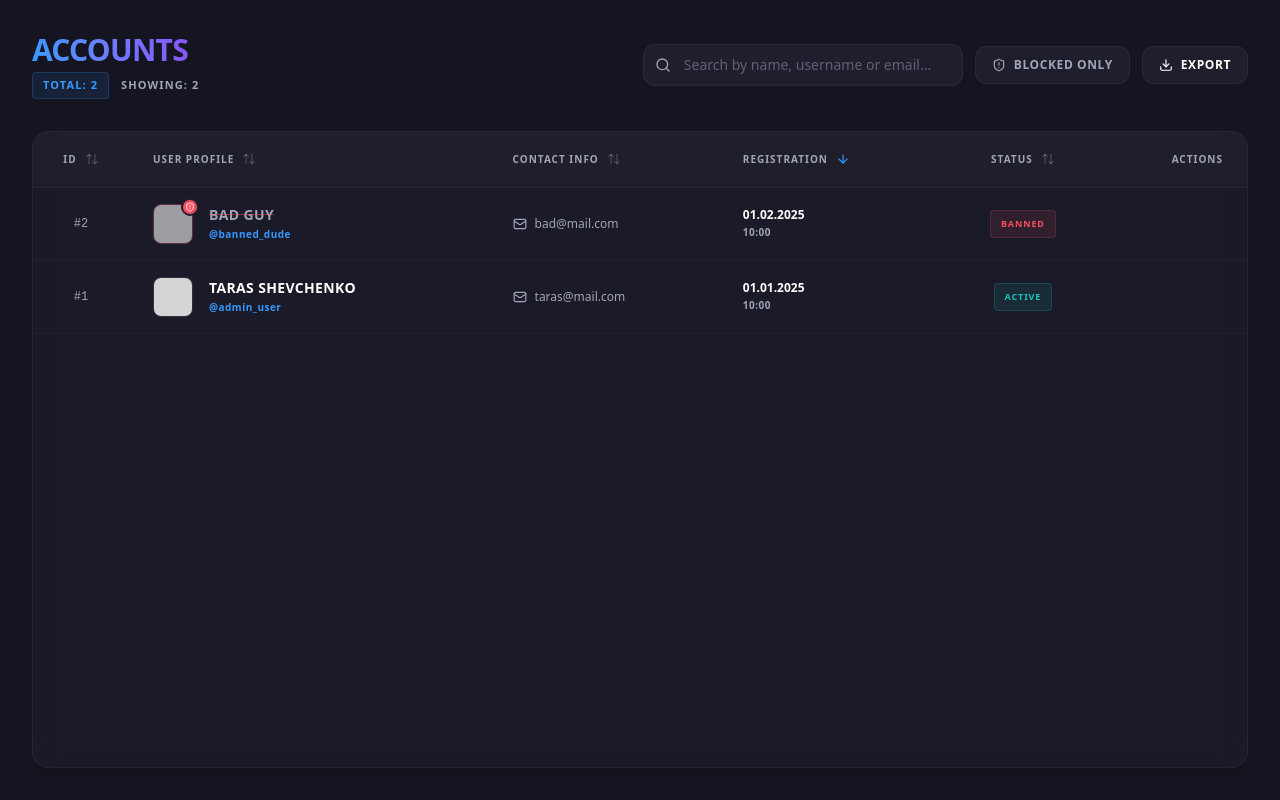
Test: Users Component › filters users by search term
Expected: the heading "Taras Shevchenko" is shown, [209, 278, 356, 298]
Type "Taras" into the field with placeholder "Search by name, username or email..." at point(803, 65), box [643, 44, 963, 86]
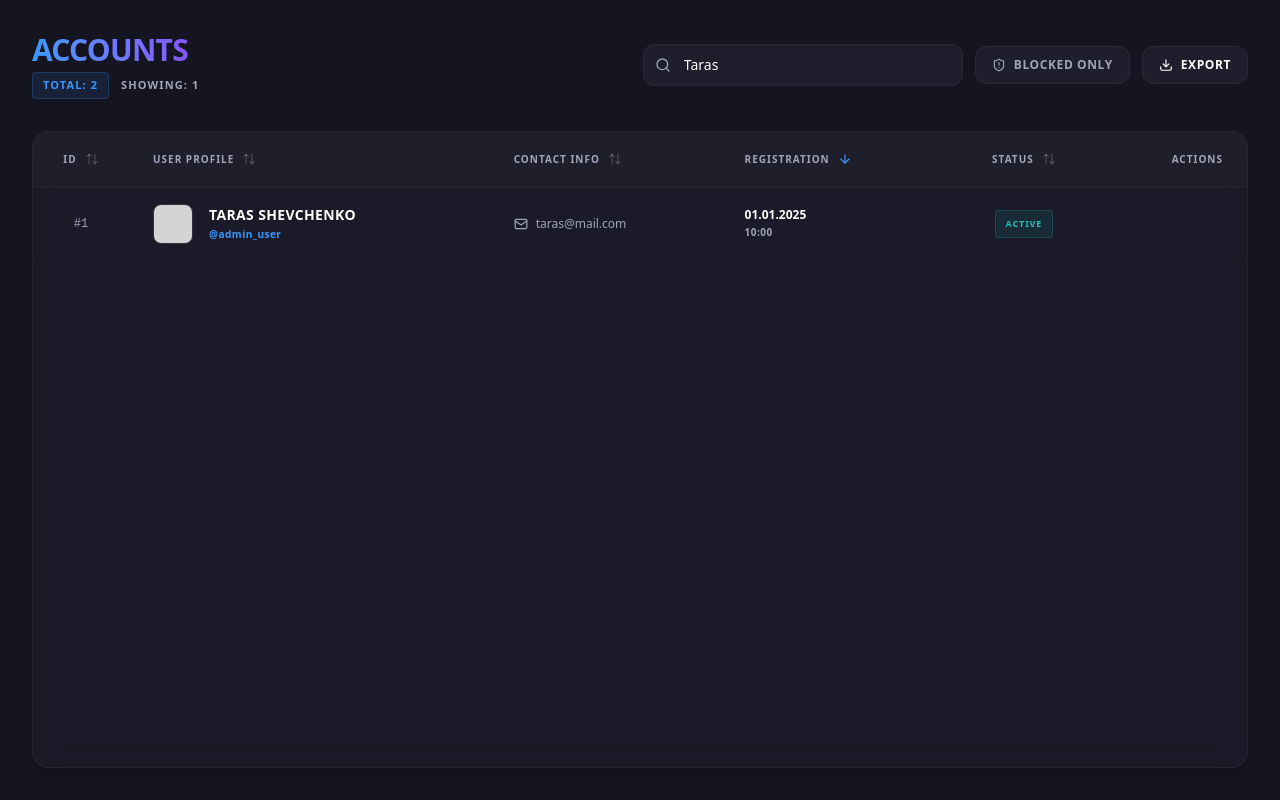
Expected: the heading "Taras Shevchenko" is shown, [209, 205, 356, 225]
Now the heading "Bad Guy" is gone
